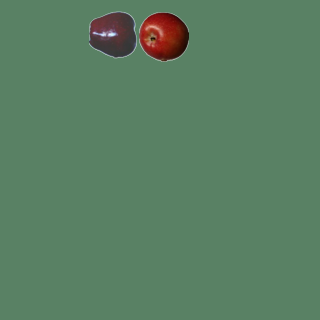Apple Braeburn: (138, 11, 188, 61)
Apple Red Delicious: (88, 9, 138, 59)
